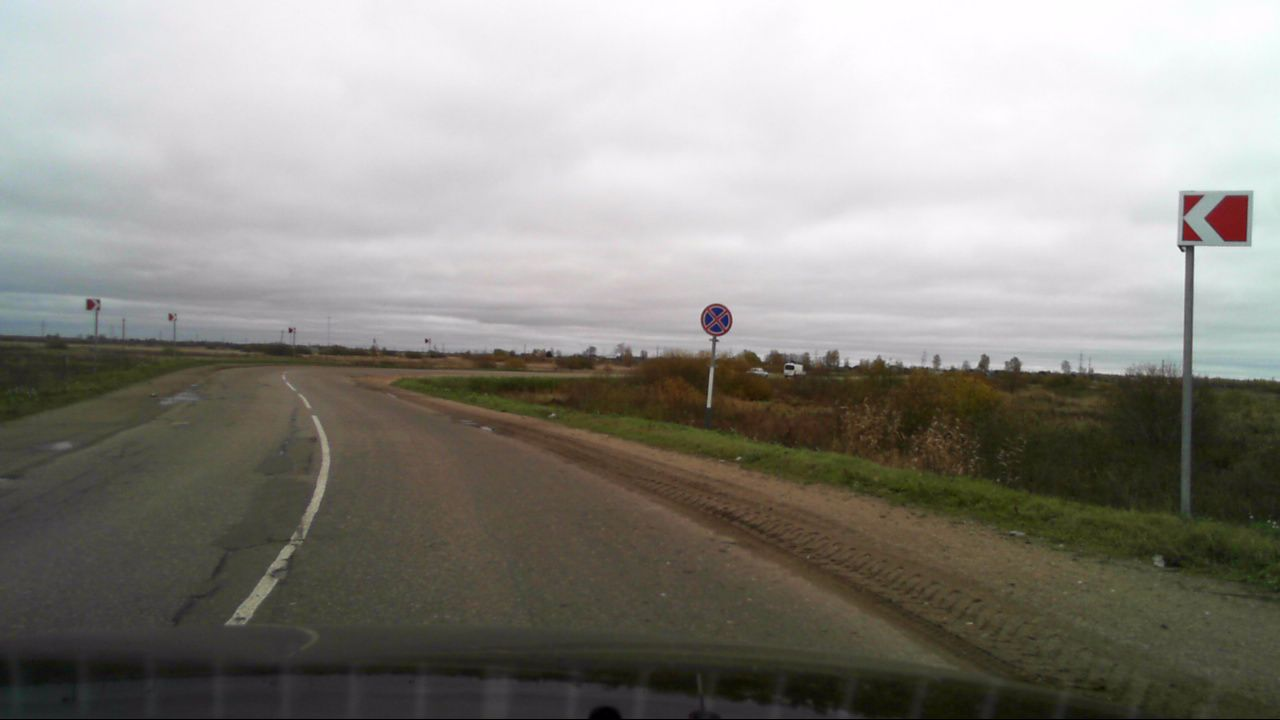No Parking: (700, 301, 733, 338)
